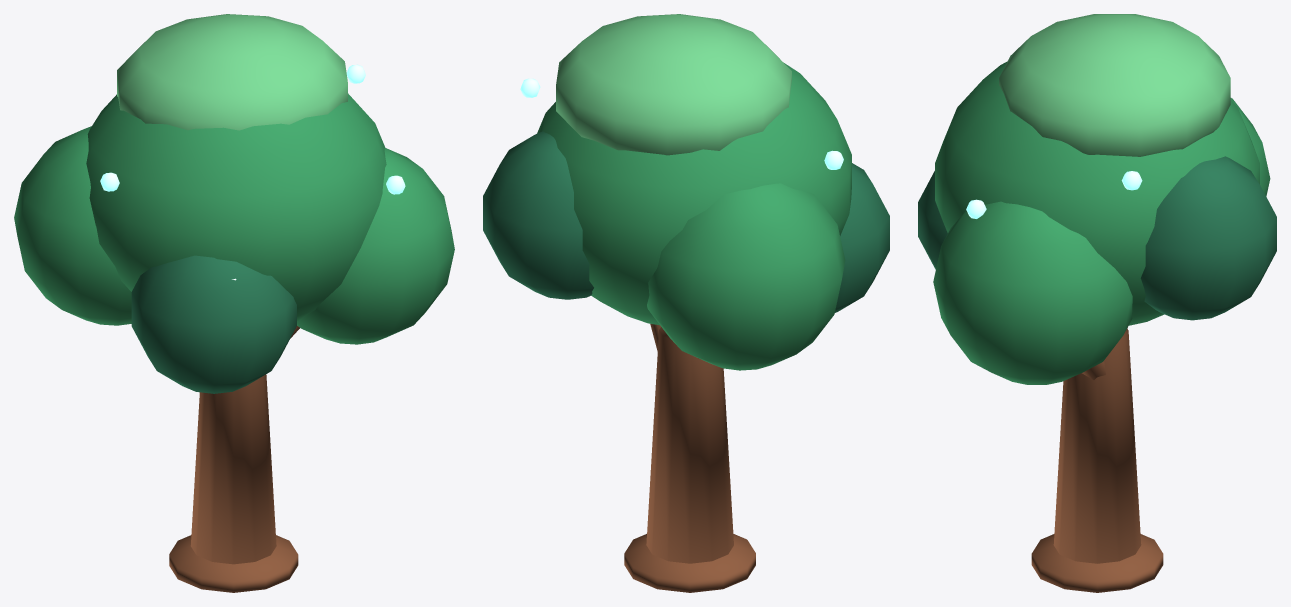
File: tree_round_big.glb
3 views of the same model, side by side, from view 1: azimuth 30°, elevation 25°; view 2: azimuth 150°, elevation 25°; view 3: azimuth 270°, elevation 25° (orthographic). The views are drawn at different scales.
Visible parts, largest first — view 1: Tree; view 2: Tree; view 3: Tree.
Part boxes in pixels (bbox=[...]): Tree: bbox=[14, 14, 454, 592]; Tree: bbox=[483, 14, 889, 592]; Tree: bbox=[918, 14, 1276, 592].
Size of the model in its own units: 2.37 by 3.51 by 2.07.
